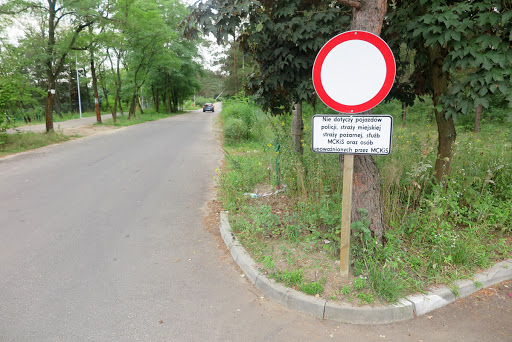no_entry_sign: (309, 29, 396, 114)
